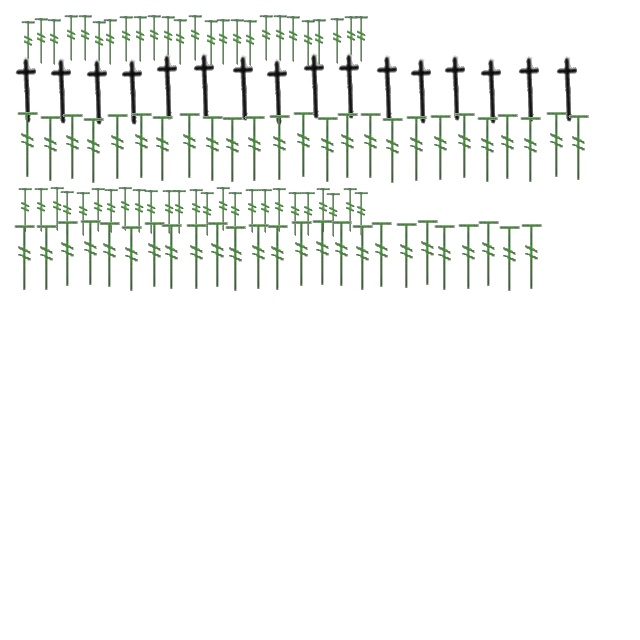enseble_chain: (8, 58, 48, 124), (114, 60, 154, 126), (186, 54, 226, 120), (296, 54, 336, 120), (44, 58, 82, 126), (150, 54, 188, 122), (404, 58, 442, 126), (474, 58, 512, 126), (512, 56, 550, 124), (550, 56, 588, 124), (80, 60, 118, 126), (226, 56, 264, 122), (260, 60, 298, 126), (332, 54, 370, 120), (370, 56, 408, 122), (438, 56, 476, 122)
fan: (15, 110, 41, 180), (38, 114, 64, 184), (60, 112, 86, 182), (81, 116, 107, 186), (105, 112, 131, 182), (150, 114, 176, 184), (200, 114, 226, 184), (242, 114, 268, 184), (291, 110, 317, 180), (380, 116, 406, 186), (404, 114, 430, 184), (495, 112, 521, 182), (544, 110, 570, 180), (78, 218, 104, 288), (97, 220, 123, 290), (119, 224, 145, 294), (142, 220, 168, 290), (159, 222, 185, 292), (184, 222, 210, 292), (205, 220, 231, 290), (223, 224, 249, 294), (246, 222, 272, 292), (310, 218, 336, 288), (369, 220, 395, 290), (415, 218, 441, 288), (456, 222, 482, 292), (497, 224, 523, 294), (519, 222, 545, 292), (129, 112, 155, 180), (177, 112, 203, 180), (220, 116, 246, 184), (267, 114, 293, 182), (315, 116, 341, 184), (335, 112, 361, 180), (358, 112, 384, 180), (428, 114, 454, 182), (452, 112, 478, 180), (475, 116, 501, 184), (518, 116, 544, 184), (566, 114, 592, 182), (12, 224, 38, 292), (34, 224, 60, 292), (55, 220, 81, 288), (265, 224, 291, 292), (289, 220, 315, 288), (329, 220, 355, 288), (350, 224, 376, 292), (394, 222, 420, 290), (432, 224, 458, 292), (476, 220, 502, 288), (20, 20, 36, 68), (33, 17, 49, 65), (46, 18, 62, 66), (63, 14, 79, 62), (77, 14, 93, 62), (91, 20, 107, 68), (102, 18, 118, 66), (118, 15, 134, 63), (132, 15, 148, 63), (146, 14, 162, 62), (160, 15, 176, 63), (172, 18, 188, 66), (187, 14, 203, 62), (203, 19, 219, 67), (215, 18, 231, 66), (229, 18, 245, 66), (242, 19, 258, 67), (258, 14, 274, 62), (272, 14, 288, 62), (285, 15, 301, 63), (300, 19, 316, 67), (311, 18, 327, 66), (329, 17, 345, 65), (343, 15, 359, 63), (353, 15, 369, 63), (17, 187, 33, 233), (33, 187, 49, 233), (49, 186, 65, 232), (59, 190, 75, 236), (75, 191, 91, 237), (90, 187, 106, 233), (103, 188, 119, 234), (117, 186, 133, 232), (131, 188, 147, 234), (143, 189, 159, 235), (161, 189, 177, 235), (171, 189, 187, 235), (188, 188, 204, 234), (199, 191, 215, 237), (215, 186, 231, 232), (227, 191, 243, 237), (244, 188, 260, 234), (257, 188, 273, 234), (271, 187, 287, 233), (287, 191, 303, 237), (300, 191, 316, 237), (315, 187, 331, 233), (325, 192, 341, 238), (342, 187, 358, 233), (353, 191, 369, 237)
